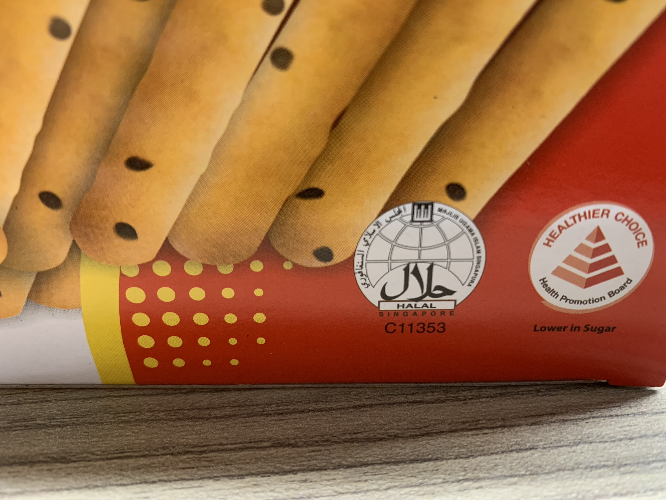halal: (372, 219, 467, 327)
